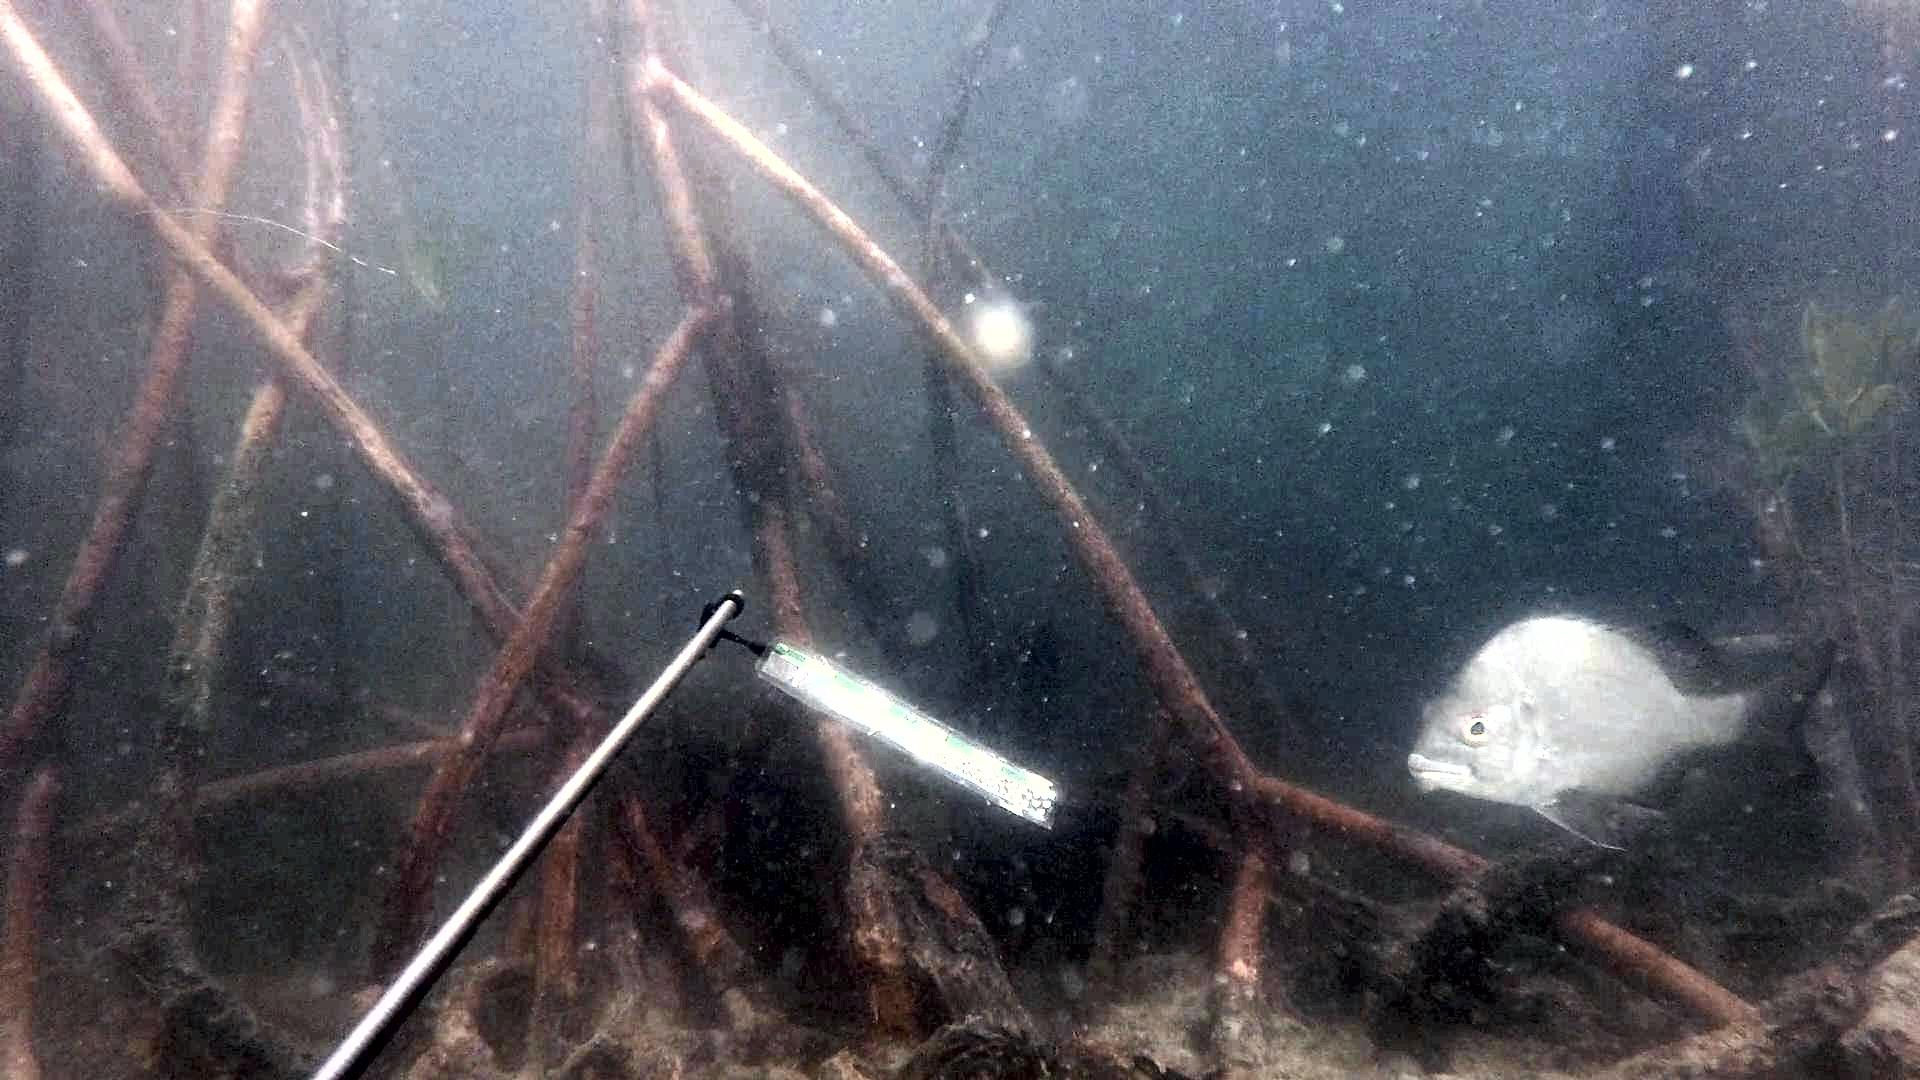acanthopagrus palmaris: (1398, 602, 1840, 861)
